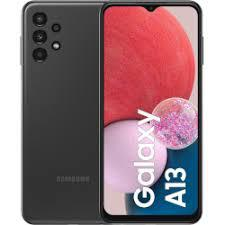Smartphone: (100, 0, 200, 220), (23, 2, 100, 219)
